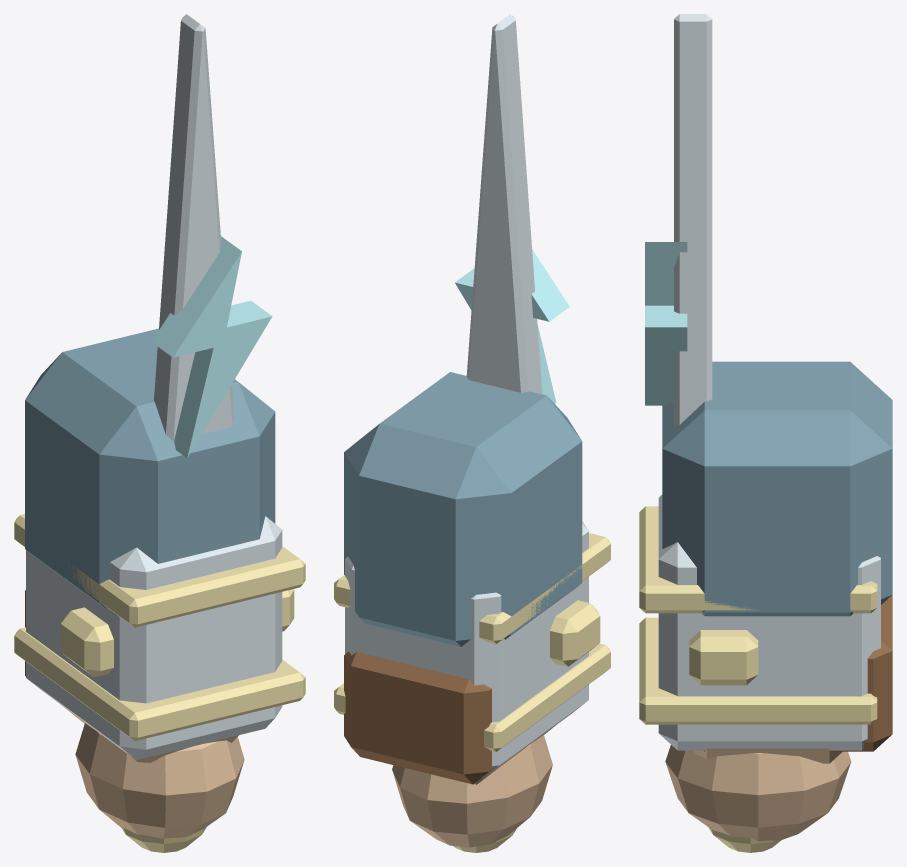
The model's file is Storm_Runner_RightArm.fbx.
3 views of the same model, side by side, from view 1: azimuth 30°, elevation 25°; view 2: azimuth 150°, elevation 25°; view 3: azimuth 270°, elevation 25° (orthographic). The views are drawn at different scales.
Parts seen in each view (by area): view 1: Storm_Runner_RightArm; view 2: Storm_Runner_RightArm; view 3: Storm_Runner_RightArm.
Part boxes in pixels (<box>): Storm_Runner_RightArm: <box>14,14,305,852</box>; Storm_Runner_RightArm: <box>334,14,610,852</box>; Storm_Runner_RightArm: <box>639,14,892,852</box>.
Size of the model in its own units: 31 by 120 by 33.
